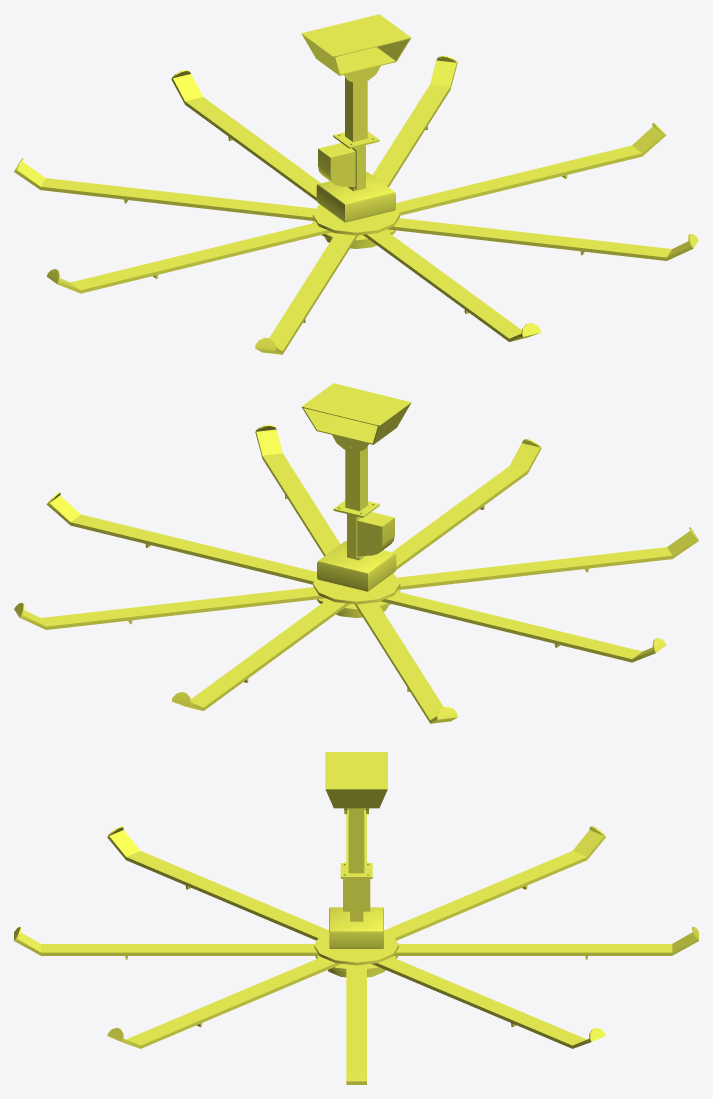
The model's file is ventilateur.FBX.
3 views of the same model, one above another, from view 1: azimuth 30°, elevation 25°; view 2: azimuth 150°, elevation 25°; view 3: azimuth 270°, elevation 25° (orthographic). The views are drawn at different scales.
Visible parts, largest first — view 1: lattes, support; view 2: lattes, support; view 3: lattes, support.
Boxes of the visible parts, x1,y1,x2,y2 form: lattes: [14, 55, 698, 354]; support: [301, 14, 411, 248]; lattes: [14, 424, 698, 723]; support: [301, 383, 411, 617]; lattes: [14, 809, 698, 1084]; support: [314, 752, 398, 977].
Size of the model in its own units: 191 by 59.75 by 191.
